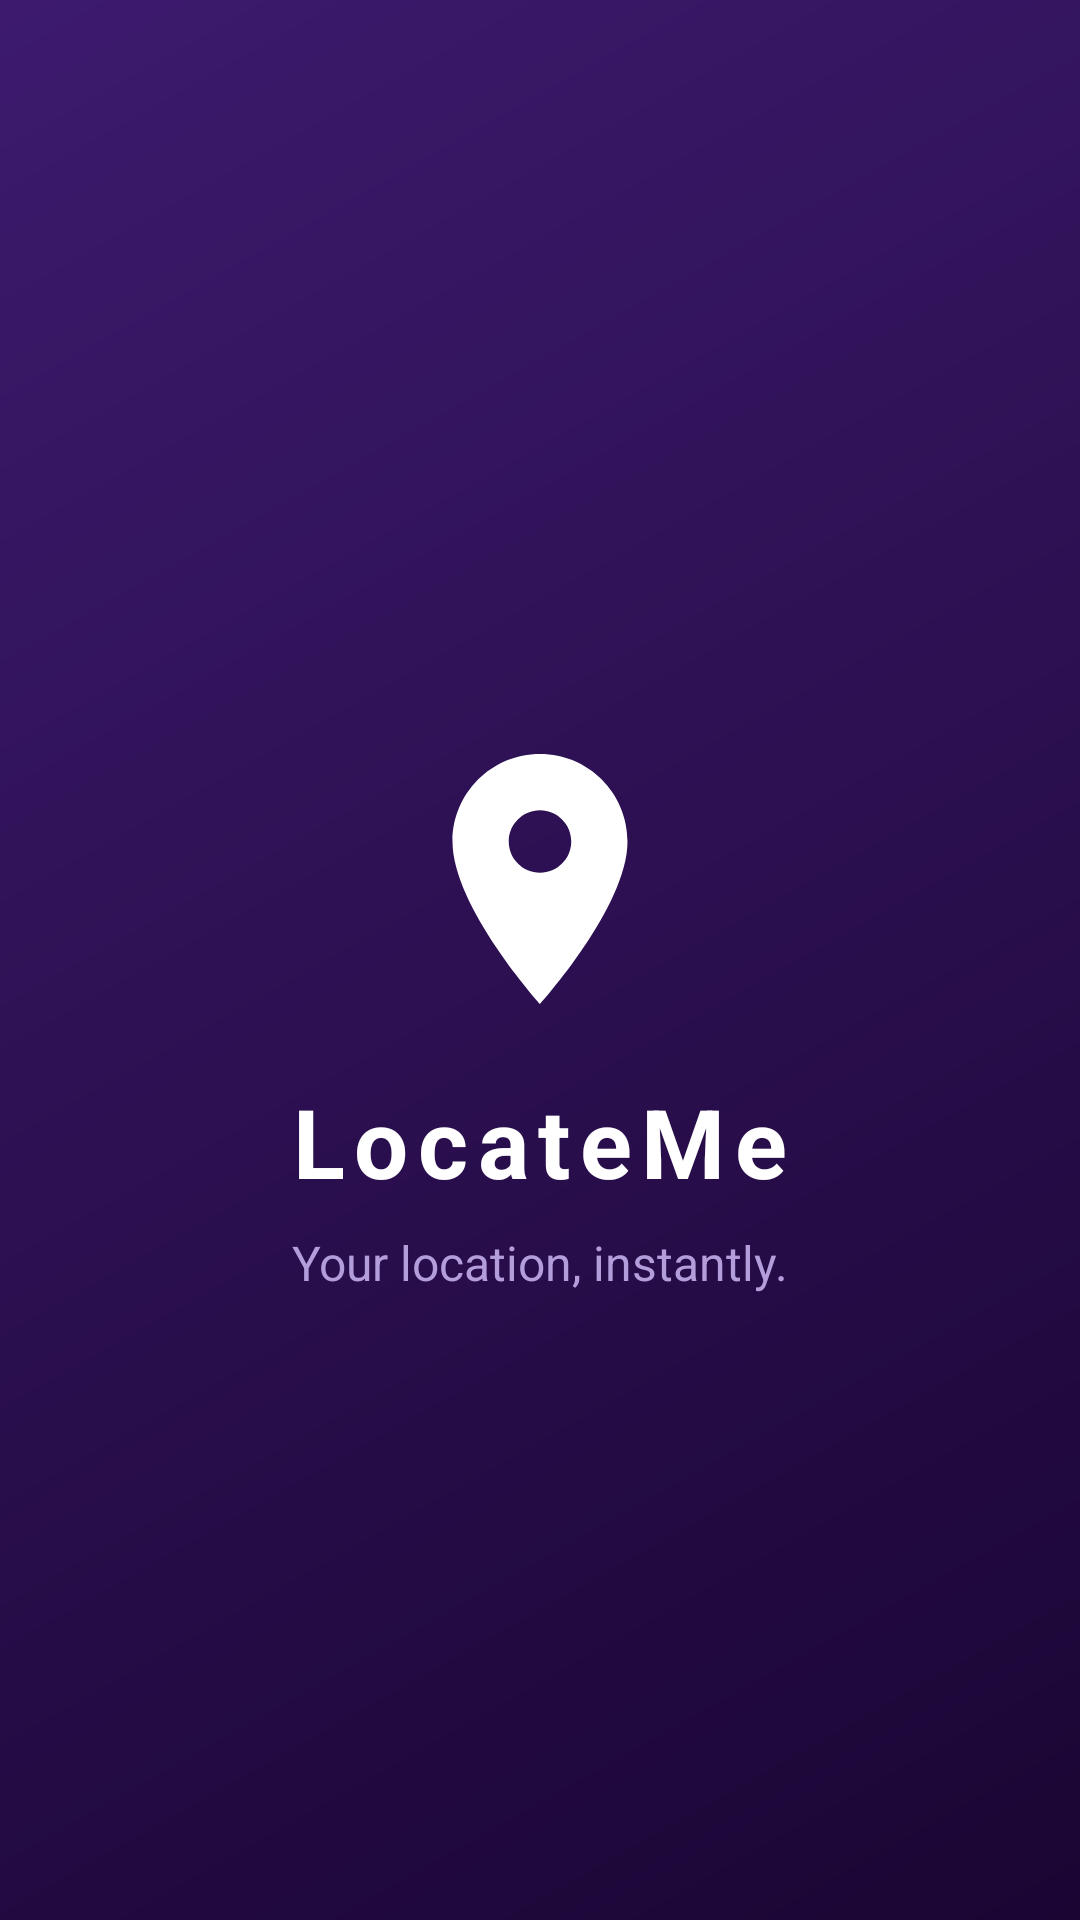

Screen size 1080x1920. Icon name, then its box in pixels as [left=x1, top=y1, right=x2, bottom=y2]:
location pin: [left=452, top=754, right=628, bottom=1004]
